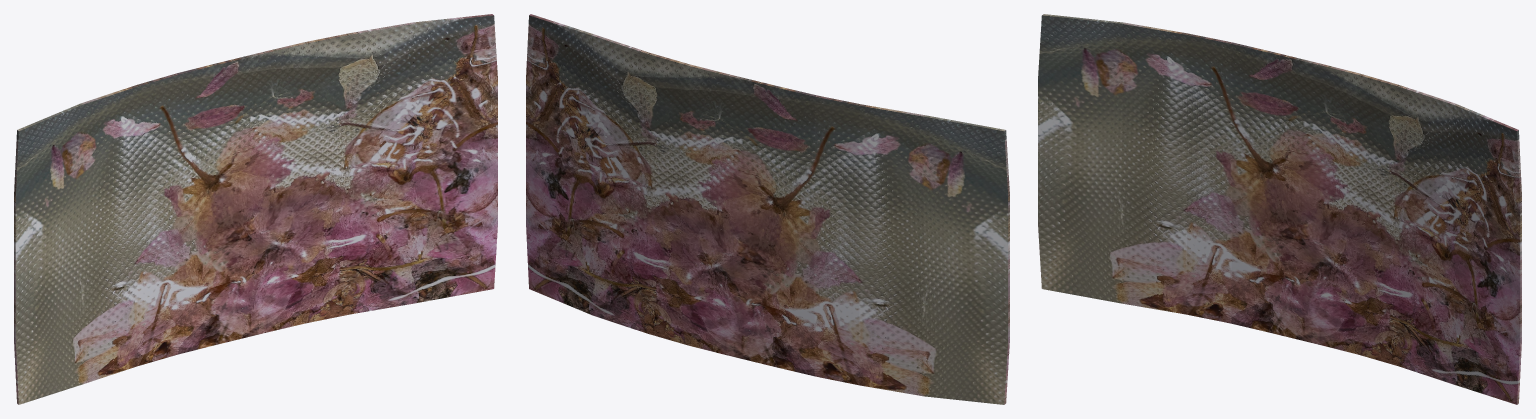
File: stadtlandfluss.glb
The picture shows the model from 3 angles, left to right: view 1: azimuth 30°, elevation 25°; view 2: azimuth 150°, elevation 25°; view 3: azimuth 330°, elevation 25°; orthographic projection.
Visible parts, largest first — view 1: videotarget; view 2: videotarget; view 3: videotarget.
Boxes of the visible parts, bbox=[...] form: videotarget: bbox=[14, 14, 497, 404]; videotarget: bbox=[526, 14, 1009, 404]; videotarget: bbox=[1038, 14, 1521, 404].
Bounding box in the file's own units: 1.73 × 0.9605 × 0.1089.
Materials: 1 (1 with a texture image).
